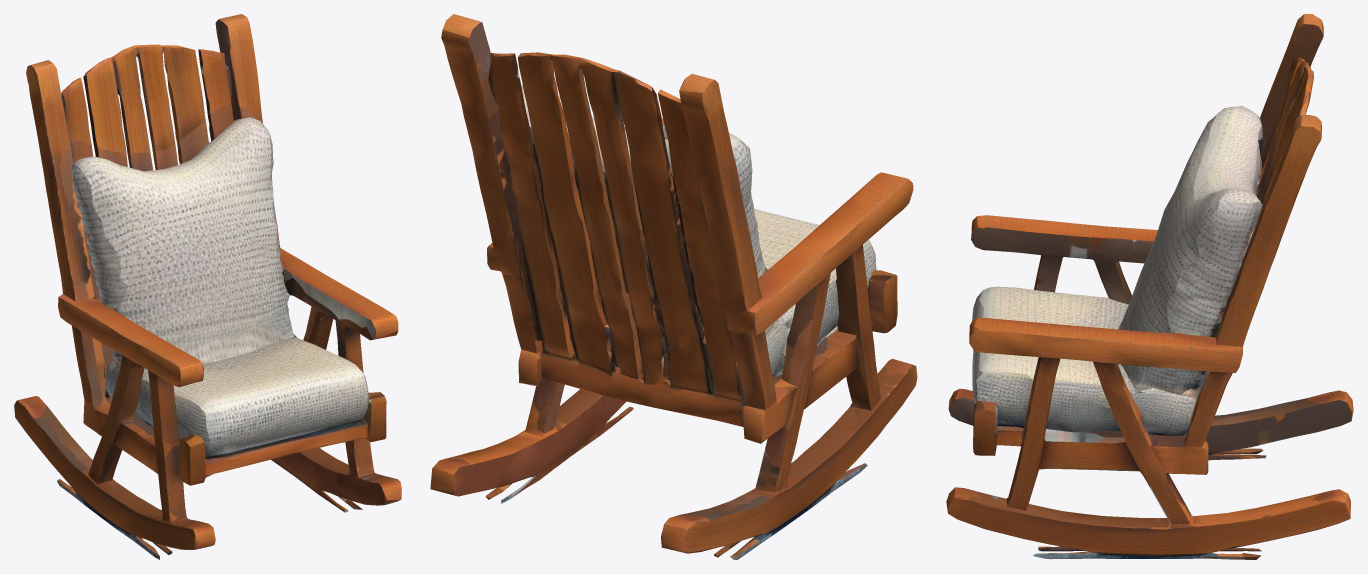
The model's file is rocking_chair.glb.
The picture shows the model from 3 angles, left to right: view 1: azimuth 30°, elevation 25°; view 2: azimuth 150°, elevation 25°; view 3: azimuth 270°, elevation 25°; orthographic projection. The views are drawn at different scales.
Visible parts, largest first — view 1: rocking_chair; view 2: rocking_chair; view 3: rocking_chair.
Part boxes in pixels (x1=…): rocking_chair: x1=14, y1=14, x2=401, y2=559; rocking_chair: x1=430, y1=14, x2=917, y2=559; rocking_chair: x1=946, y1=14, x2=1353, y2=559.
Size of the model in its own units: 0.5673 by 1 by 0.8417.
Materials: 1 (1 with a texture image).
